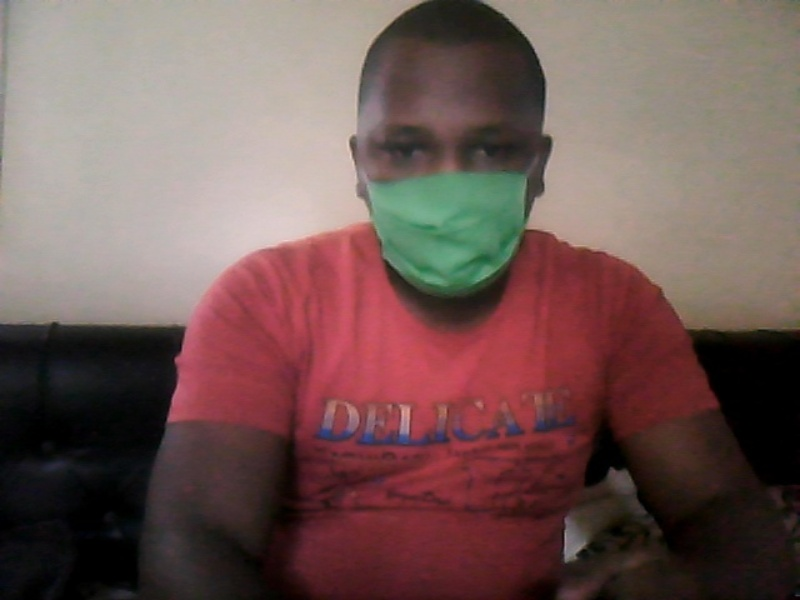ManaoArotava: (346, 13, 570, 319)
